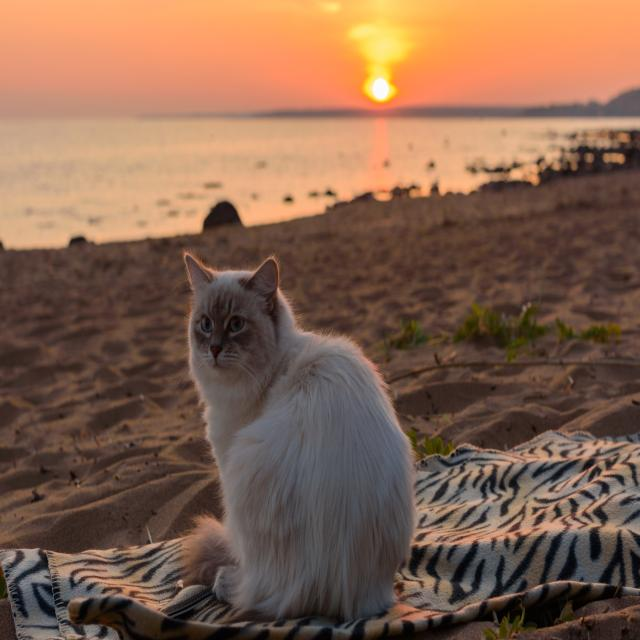Neva Masquerade: (178, 247, 420, 624)
